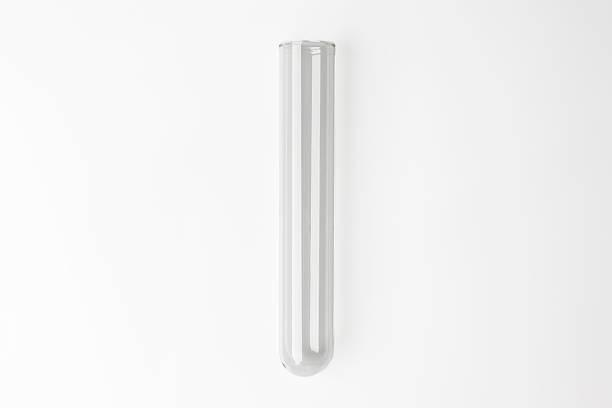Test tube: (261, 29, 335, 376)
